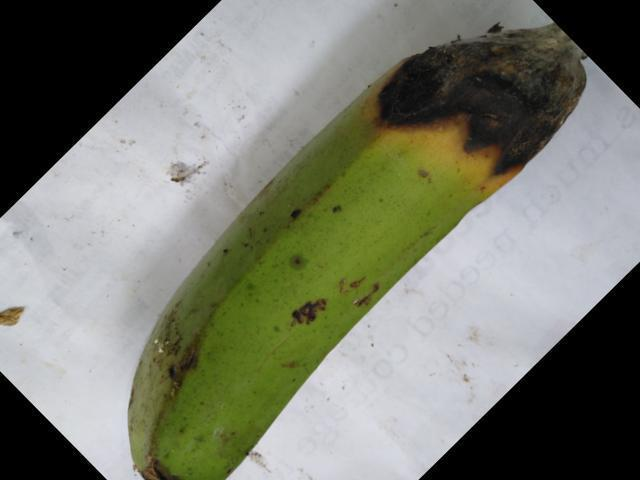rotten: (361, 14, 600, 235)
unripe: (112, 122, 432, 479)
